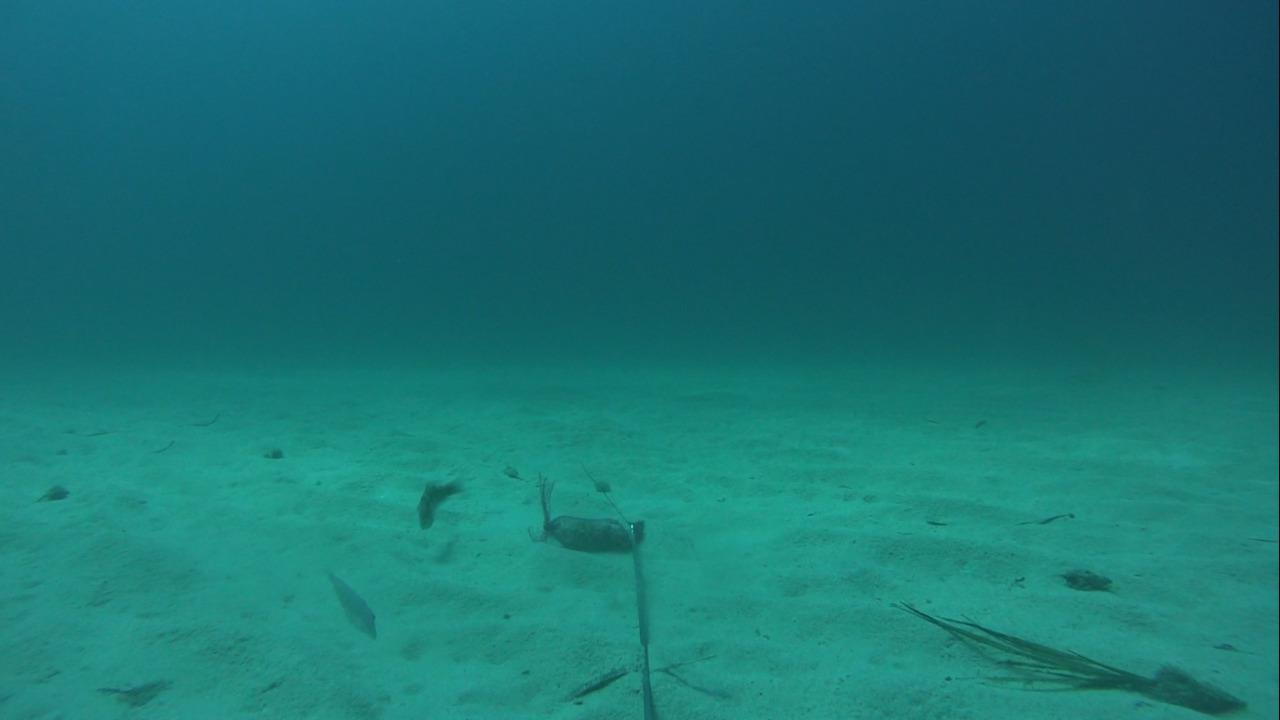raor: (319, 567, 380, 646), (413, 475, 464, 533)
